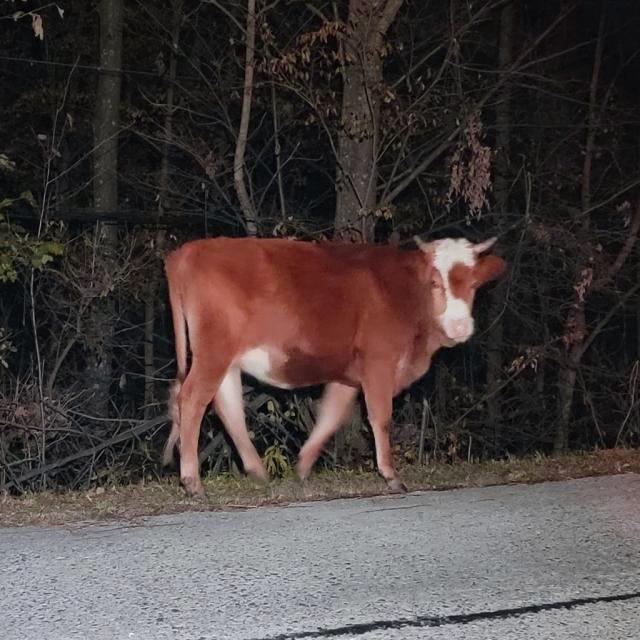cow: (166, 238, 504, 493)
